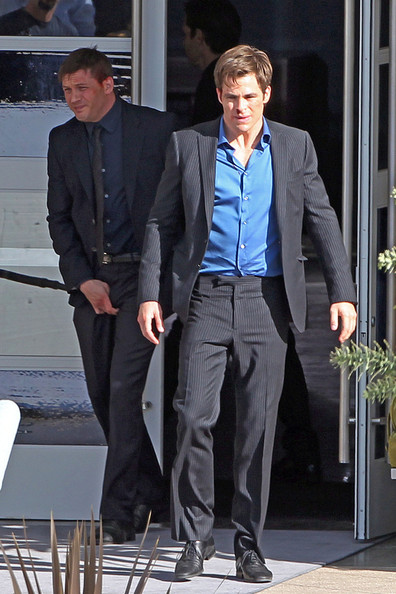Person: (137, 44, 357, 582), (46, 48, 179, 547)
